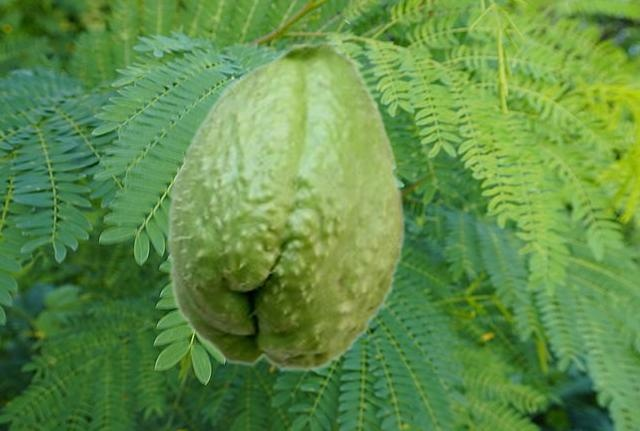sayote: (166, 38, 406, 372)
